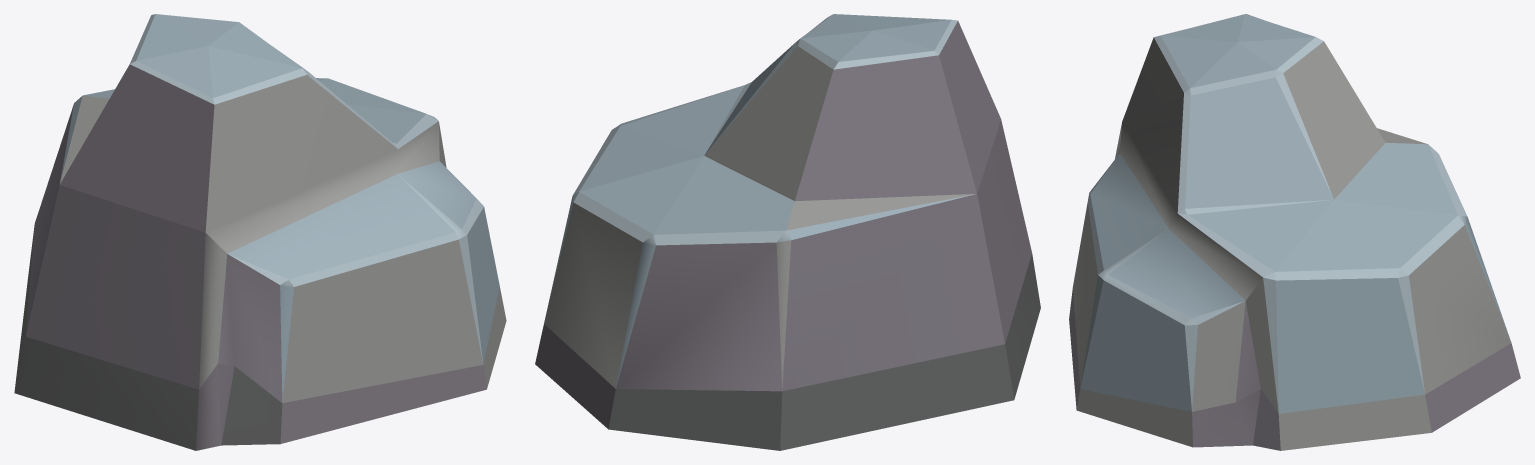
The model's file is mesh_Rock.fbx.
3 views of the same model, side by side, from view 1: azimuth 30°, elevation 25°; view 2: azimuth 150°, elevation 25°; view 3: azimuth 270°, elevation 25° (orthographic). The views are drawn at different scales.
Parts seen in each view (by area): view 1: pCube1; view 2: pCube1; view 3: pCube1.
Part boxes in pixels (x1,y1,x2,y2): pCube1: (14, 14, 506, 450); pCube1: (535, 14, 1040, 450); pCube1: (1069, 14, 1520, 450).
Bounding box in the file's own units: 0.7782 × 0.5354 × 0.7601.
